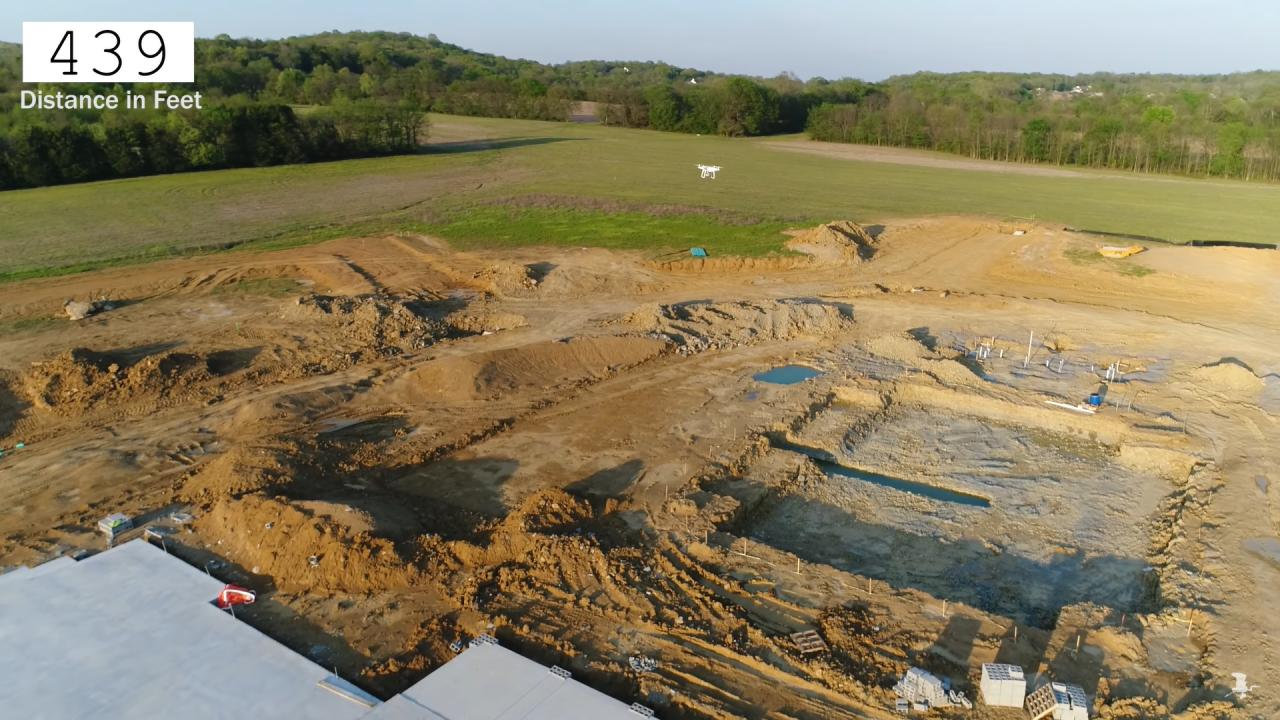Drone: (687, 156, 729, 188)
